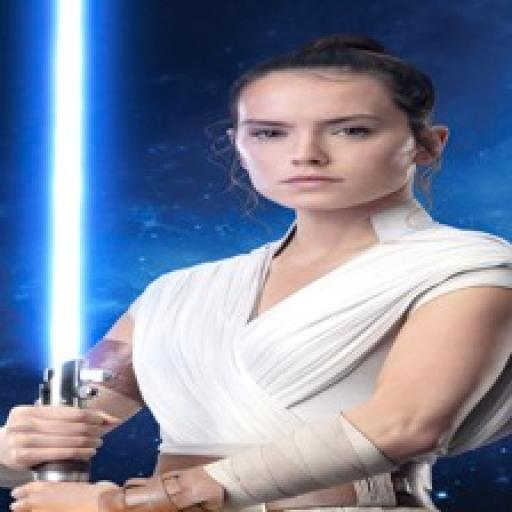human: (0, 27, 510, 512)
lightsaber: (35, 0, 112, 512)
